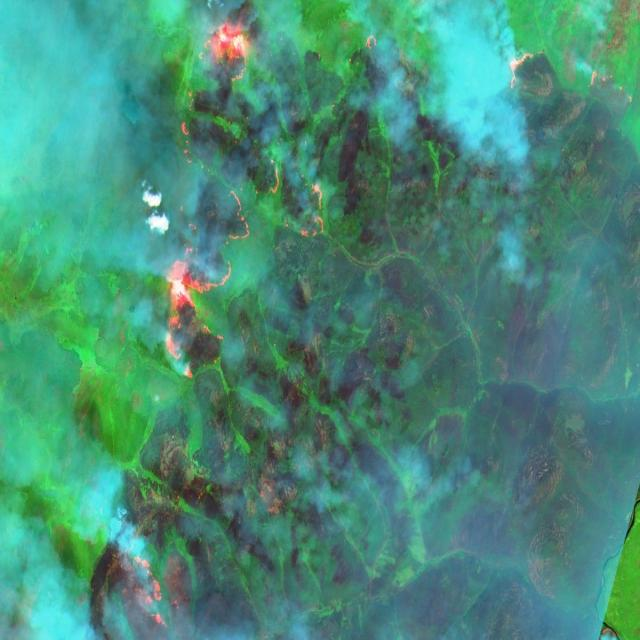fire: (148, 0, 272, 441)
